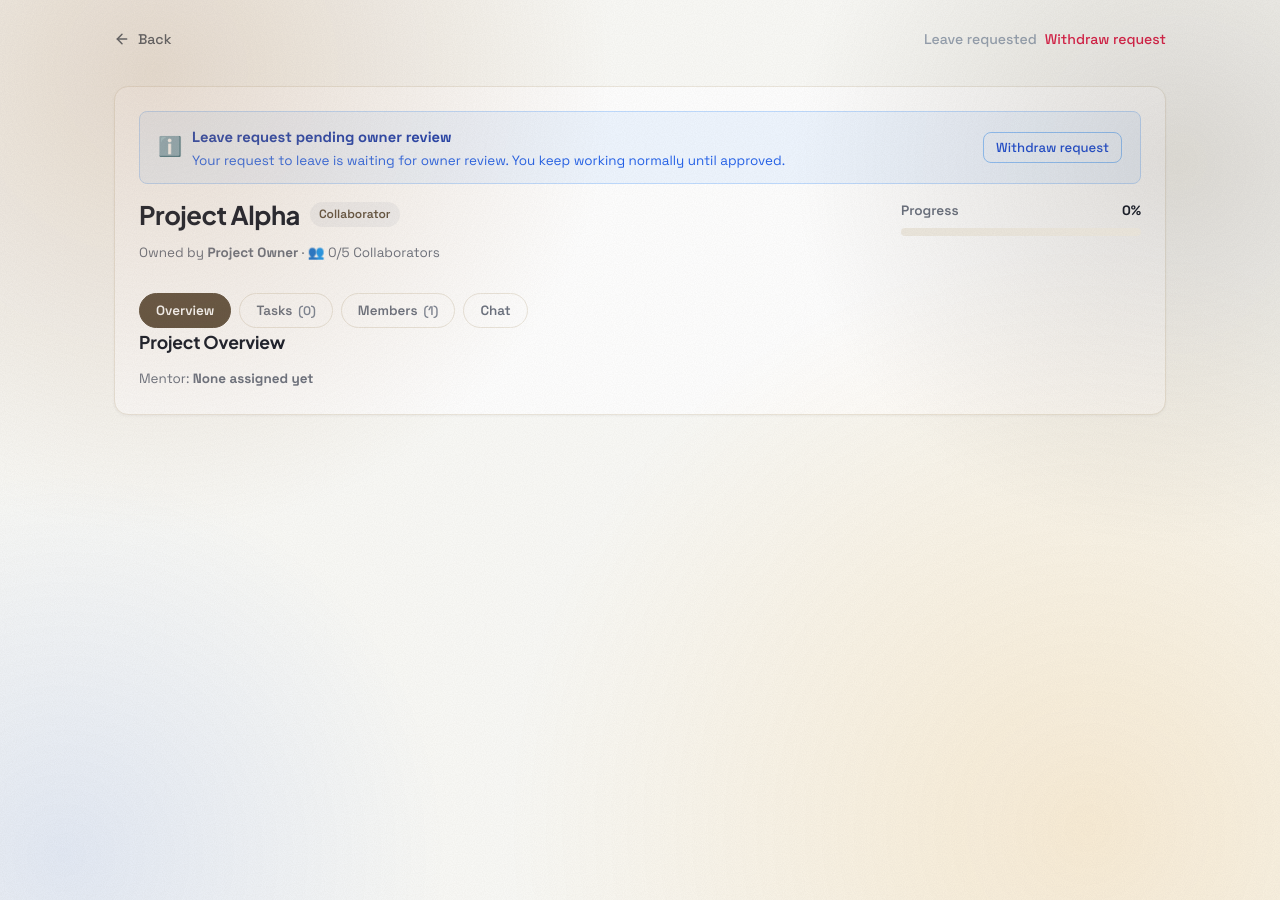
Test: FEATURE: Leave Request with Owner Approval and Account Deletion Guard › collaborator sees Leave requested and can withdraw when pending request exists
Expected: the button with test id "leave-requested-btn" is shown, 924,24 -> 1037,54
Expected: the element with test id "collab-pending-leave-banner" is shown, 139,111 -> 1141,184
# Click withdraw
Step 1. Click the button with test id "withdraw-leave-btn" → (1105, 39), box 1045,24 -> 1166,54
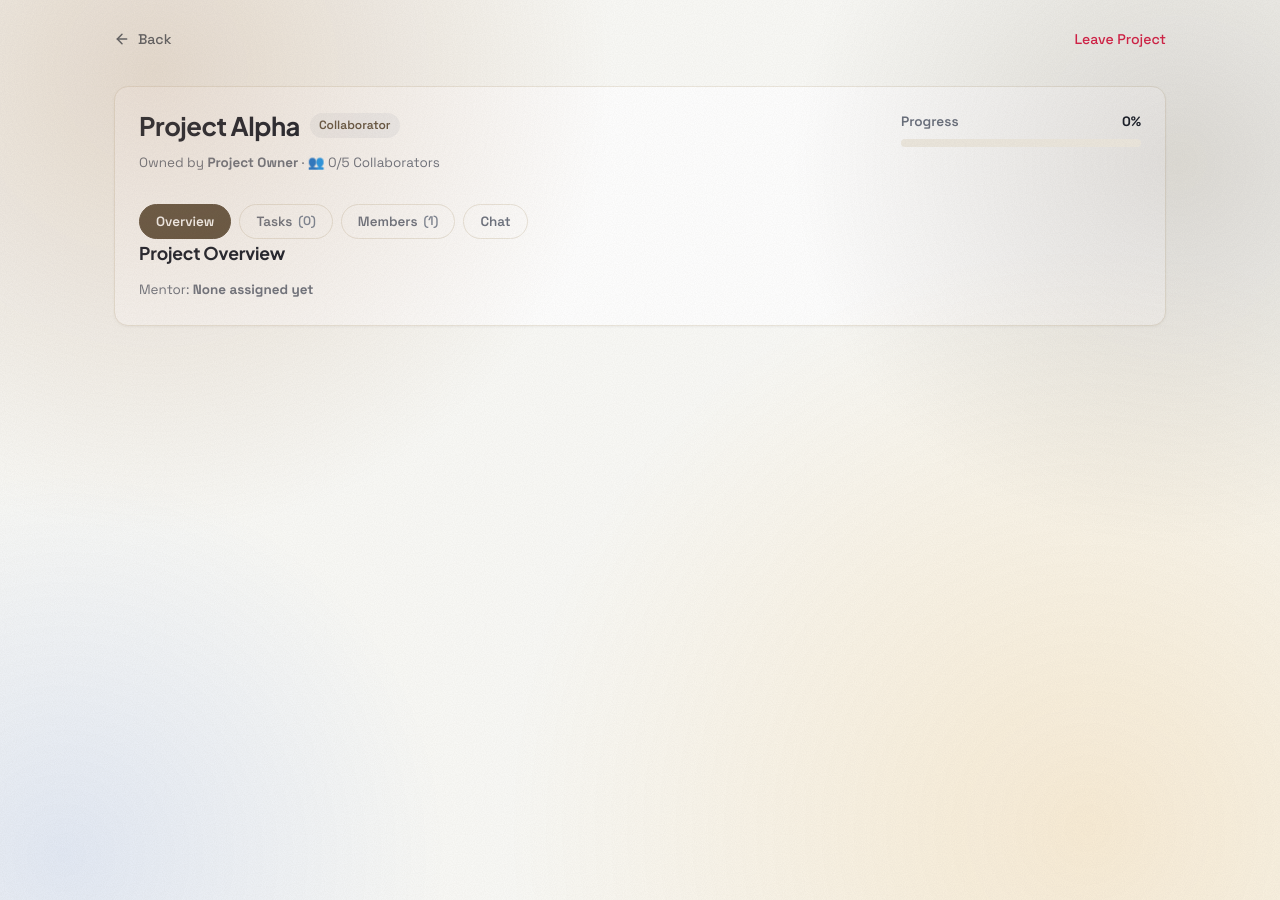
Result: the element with test id "collab-pending-leave-banner" is gone
Result: the button with test id "leave-project-btn" is shown at 1074,24 -> 1166,54
